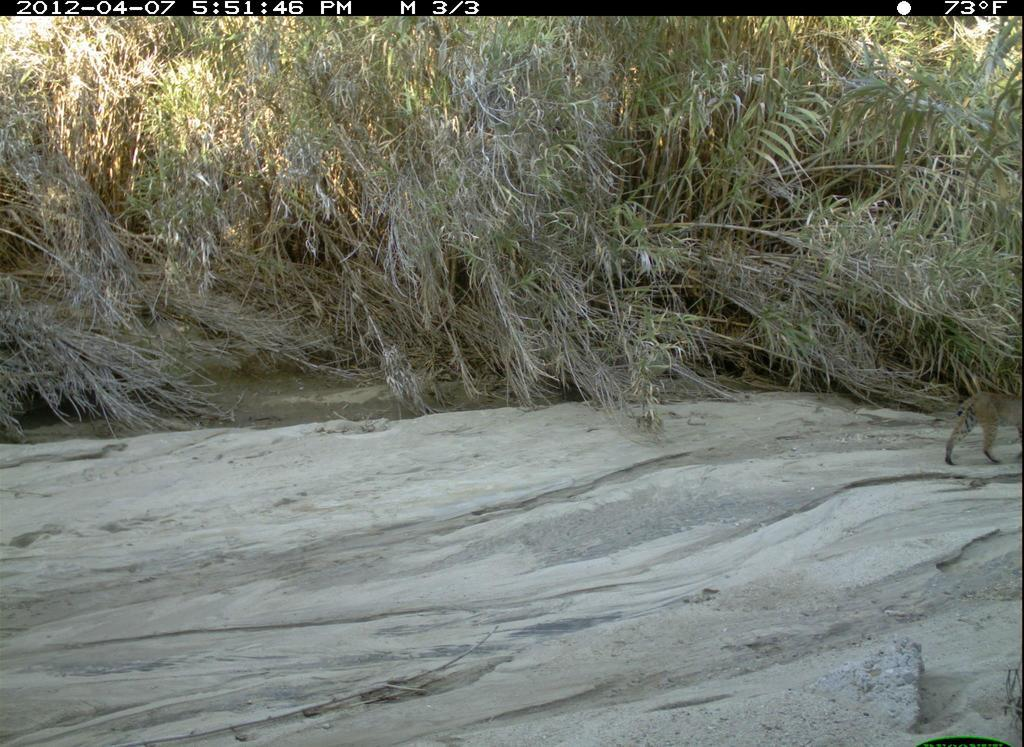bobcat: (943, 387, 1023, 470)
